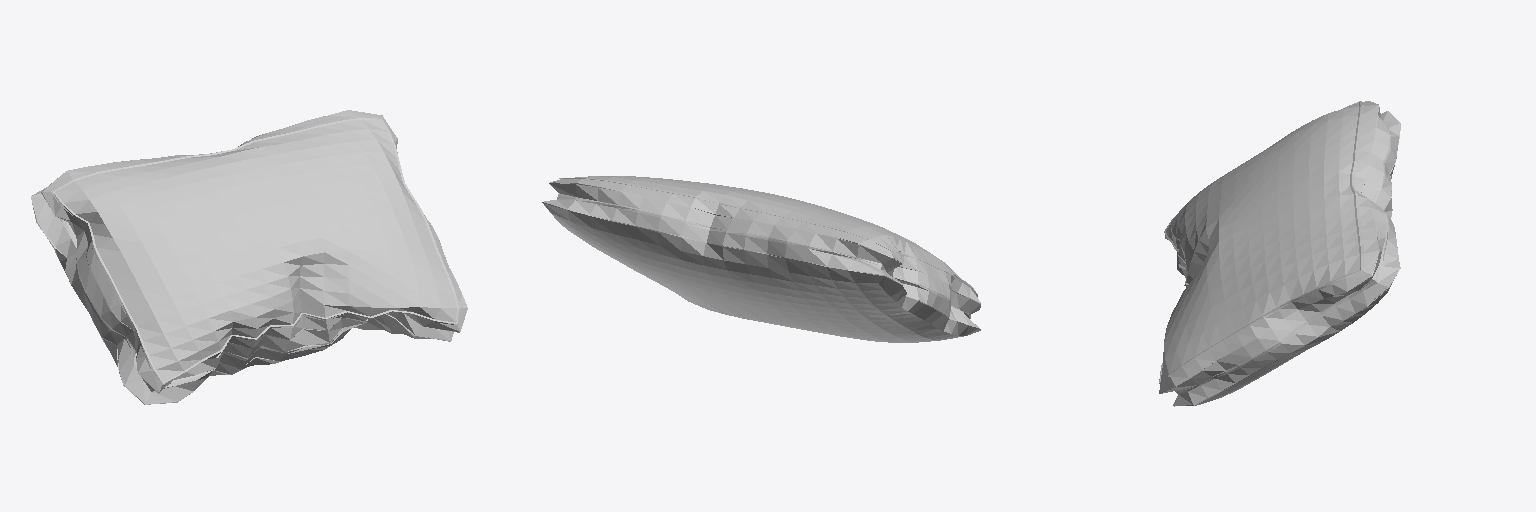
The model's file is PillowG.obj.
3 renders of one model, left to right at view 1: azimuth 30°, elevation 25°; view 2: azimuth 150°, elevation 25°; view 3: azimuth 270°, elevation 25°, orthographic.
Visible parts, largest first — view 1: pillow; view 2: pillow; view 3: pillow.
Boxes of the visible parts, <box> form: pillow: <box>31,110,467,404</box>; pillow: <box>542,176,980,342</box>; pillow: <box>1159,101,1400,406</box>.
Bounding box in the file's own units: 15.85 × 7.15 × 9.4.